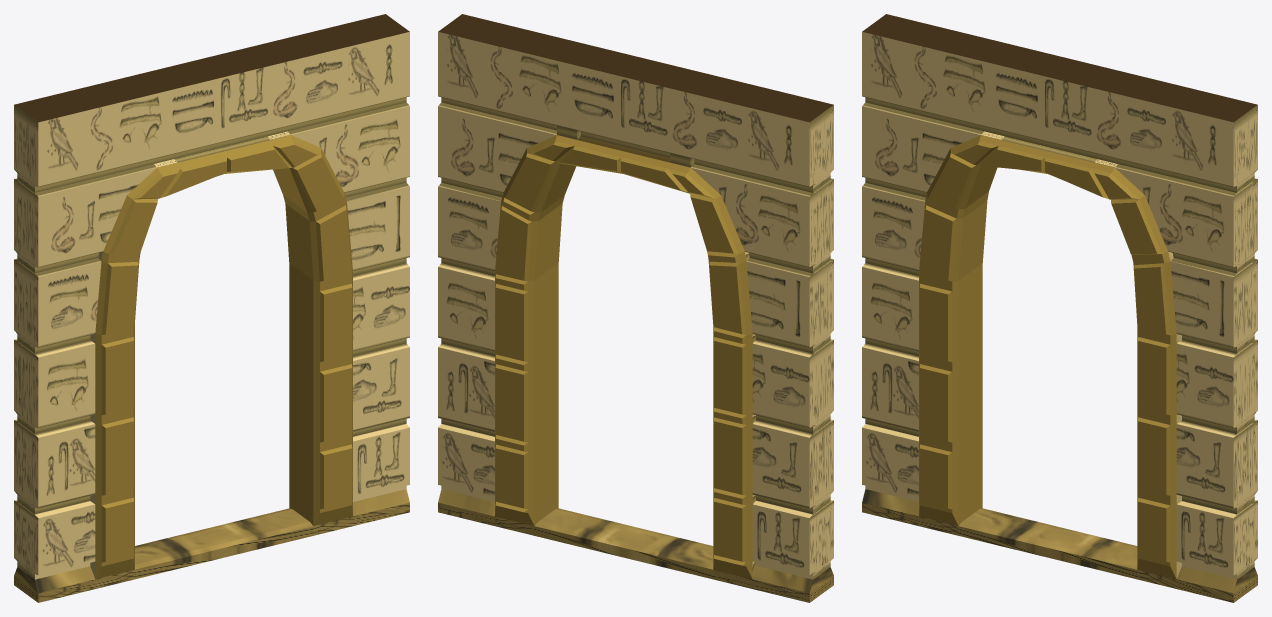
File: InnerWall2.FBX
The picture shows the model from 3 angles, left to right: view 1: azimuth 30°, elevation 25°; view 2: azimuth 150°, elevation 25°; view 3: azimuth 330°, elevation 25°; orthographic projection.
Visible parts, largest first — view 1: Door Wall; view 2: Door Wall; view 3: Door Wall.
Part boxes in pixels (x1,y1,x2,y2): Door Wall: (14, 14, 409, 602); Door Wall: (438, 14, 833, 602); Door Wall: (862, 14, 1257, 602).
Bounding box in the file's own units: 78.76 × 97.29 × 12.45.
